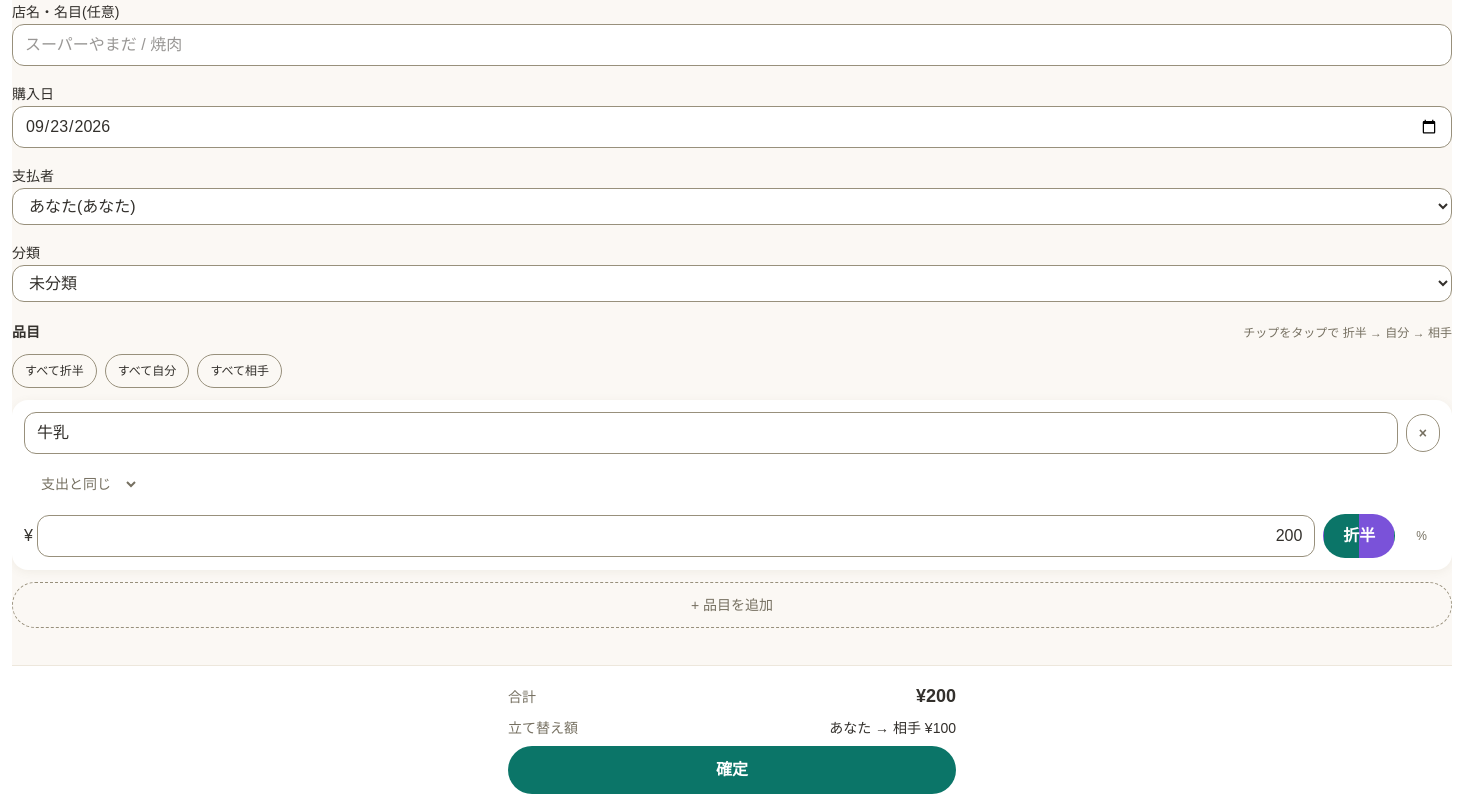
Scenario: チップを押すと負担区分が折半・自分・相手の順に循環する
This screenshot has width=1464, height=810.
Click the button with aria-label "負担区分: 折半" at (1359,536), box [1323, 514, 1395, 558]
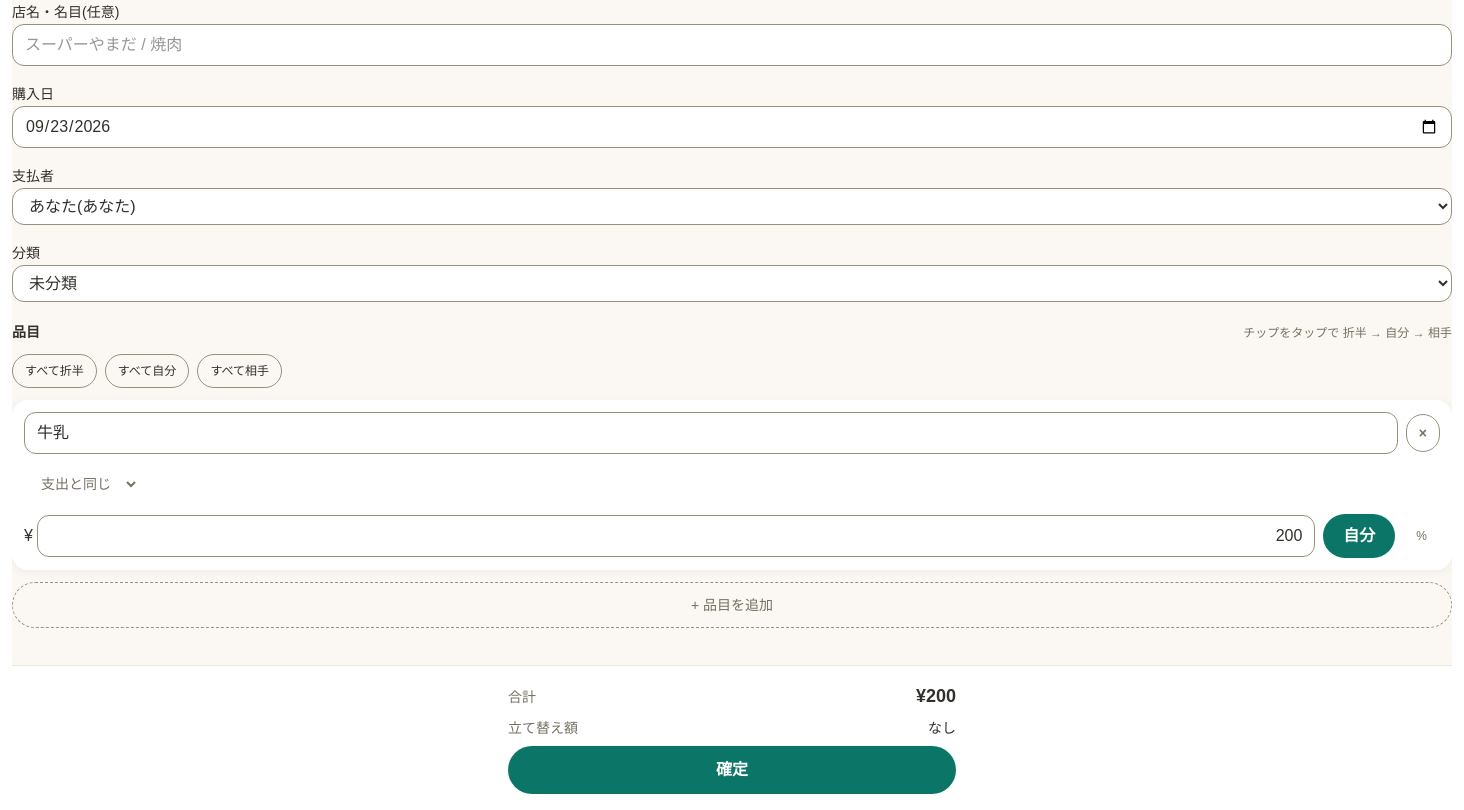
Expected: the button with aria-label "負担区分: 自分" is shown
Click the button with aria-label "負担区分: 自分" at (1359,536), box [1323, 514, 1395, 558]
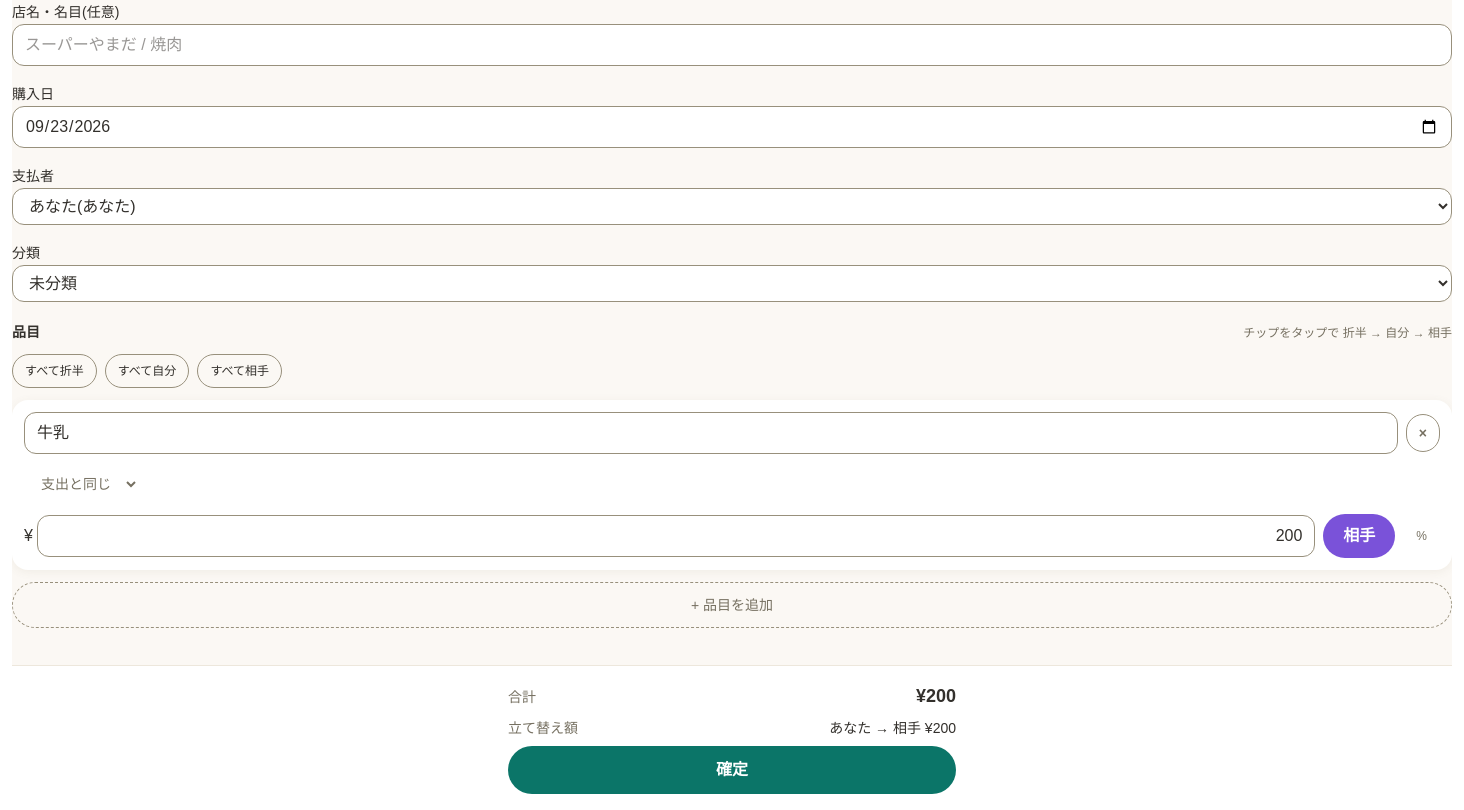
Expected: the button with aria-label "負担区分: 相手" is shown
Click the button with aria-label "負担区分: 相手" at (1359,536), box [1323, 514, 1395, 558]
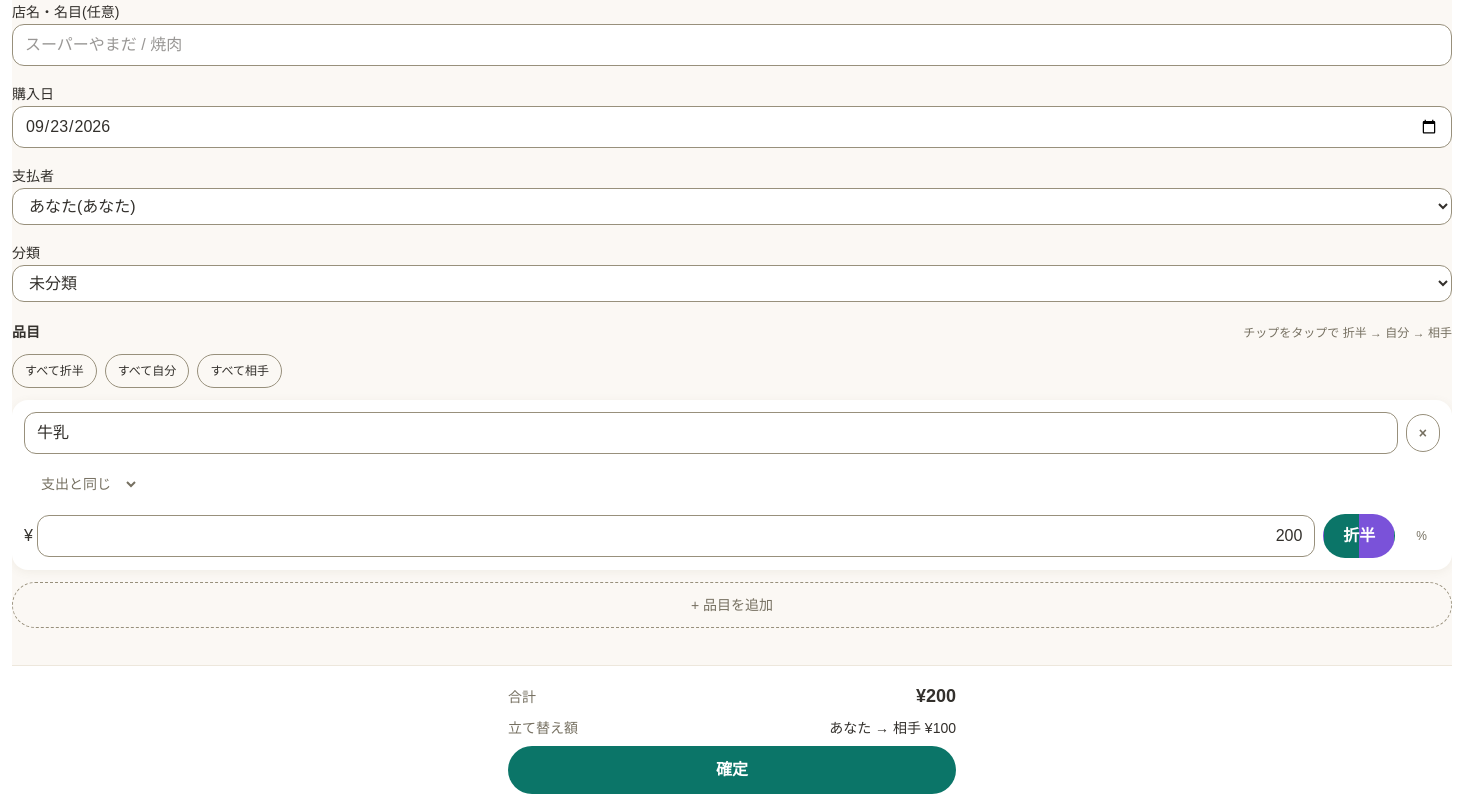
Expected: the button with aria-label "負担区分: 折半" is shown, [1323, 514, 1395, 558]
